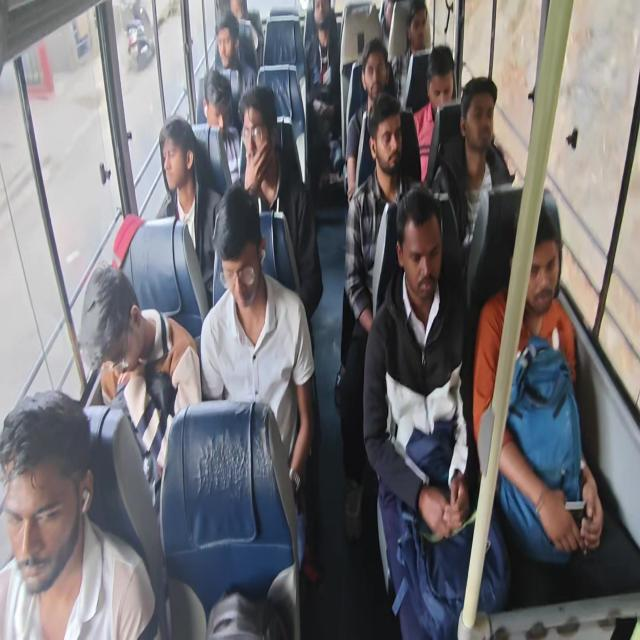person: (3, 420, 75, 595), (84, 287, 148, 386), (515, 220, 561, 316), (398, 206, 438, 300), (220, 228, 262, 314), (467, 78, 499, 162), (241, 104, 275, 178), (372, 110, 407, 177), (425, 59, 461, 116), (203, 80, 231, 139), (157, 136, 185, 188), (361, 32, 384, 92), (210, 26, 238, 70), (403, 10, 428, 51), (311, 7, 329, 44), (385, 0, 400, 28)
